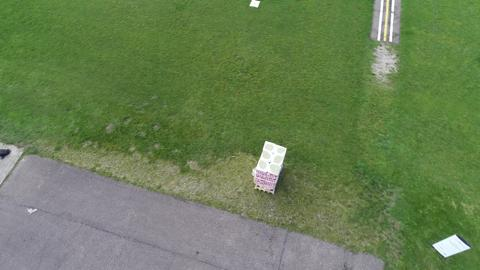RockwoolPallet: (255, 141, 287, 191)
